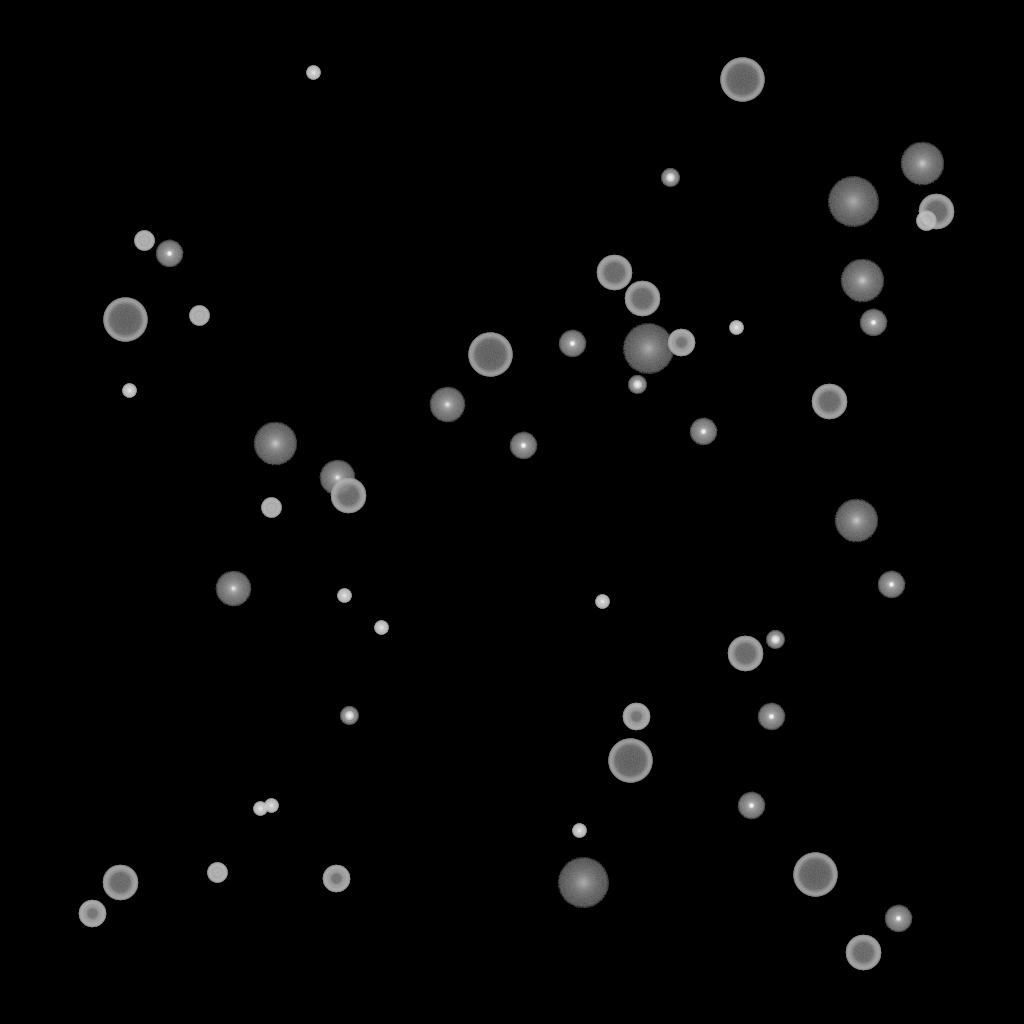depth:-10: (757, 703, 785, 731), (859, 309, 887, 337), (737, 792, 765, 820), (155, 240, 183, 268), (558, 330, 586, 358), (877, 571, 905, 599), (509, 432, 537, 460), (884, 905, 912, 933), (689, 418, 717, 446)
depth:-20: (766, 631, 784, 649), (661, 169, 679, 187), (628, 376, 646, 394), (340, 707, 358, 725)
depth:-30: (595, 595, 609, 609), (264, 799, 278, 813), (122, 384, 136, 398), (729, 321, 743, 335), (572, 824, 586, 838), (306, 66, 320, 80), (253, 802, 267, 816), (374, 621, 388, 635), (337, 589, 351, 603)
depth:-40: (134, 231, 154, 251), (189, 306, 209, 326), (207, 863, 227, 883), (261, 498, 281, 518), (916, 211, 936, 231)
depth:-50: (667, 329, 695, 357), (78, 900, 106, 928), (322, 865, 350, 893), (622, 703, 650, 731)
depth:-60: (624, 281, 660, 317), (727, 636, 763, 672), (918, 194, 954, 230), (102, 865, 138, 901), (845, 935, 881, 971), (596, 255, 632, 291), (811, 384, 847, 420), (330, 478, 366, 514)
depth:-70: (793, 853, 837, 897), (103, 298, 147, 342), (720, 58, 764, 102), (468, 333, 512, 377), (608, 739, 652, 783)
depth:0: (319, 460, 355, 496), (215, 571, 251, 607), (429, 387, 465, 423)
depth:10: (900, 142, 944, 186), (834, 499, 878, 543), (253, 422, 297, 466), (840, 259, 884, 303)
depth:20: (622, 324, 674, 374), (557, 858, 609, 908), (827, 177, 879, 227)
